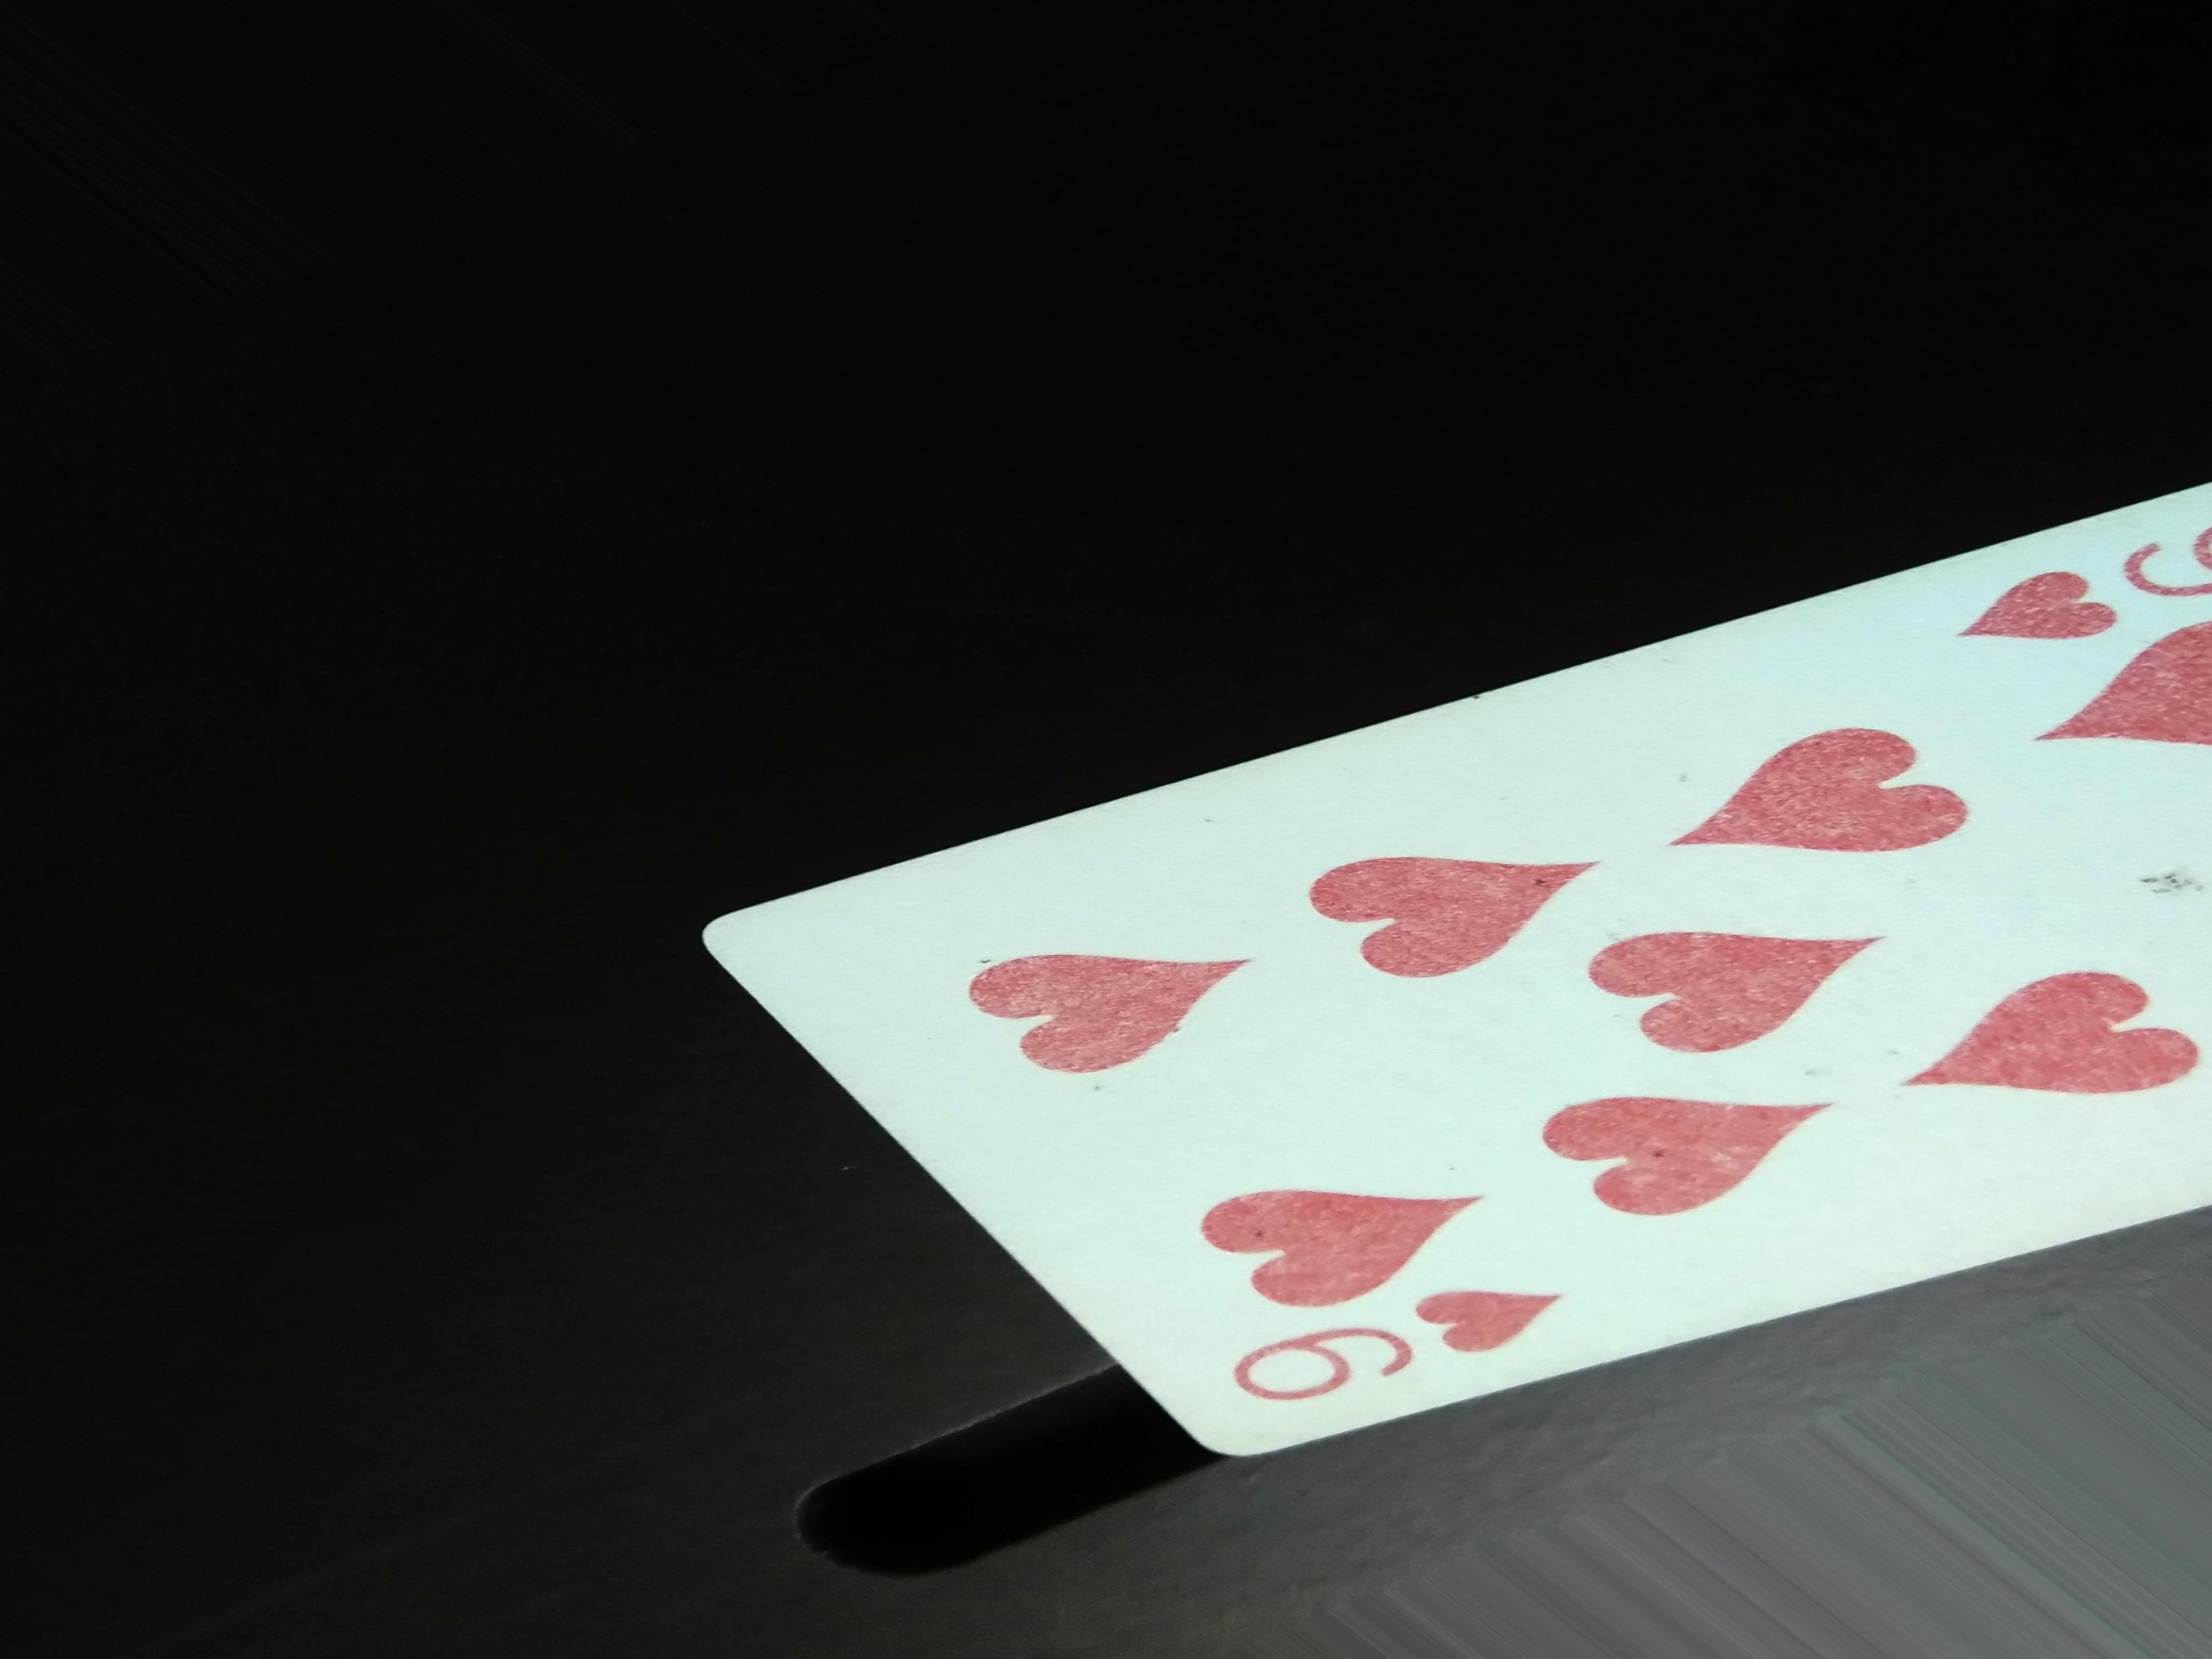9H: (1207, 1295, 1531, 1380)
